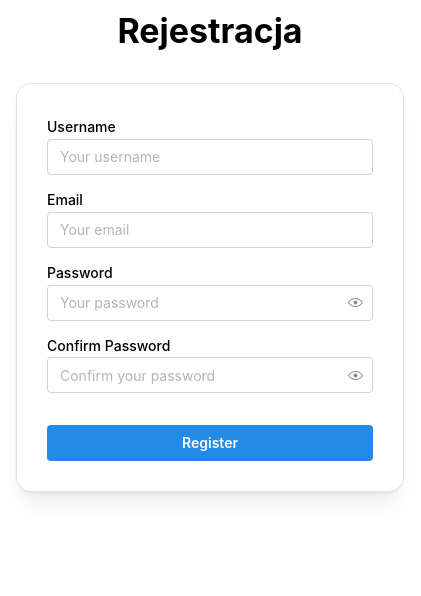
Test: RegisterPage Component › Displays validation messages when clicking submit button with wrong data
Step 1. Click the button "Register" → (210, 443), box x1=47 y1=425 x2=373 y2=461
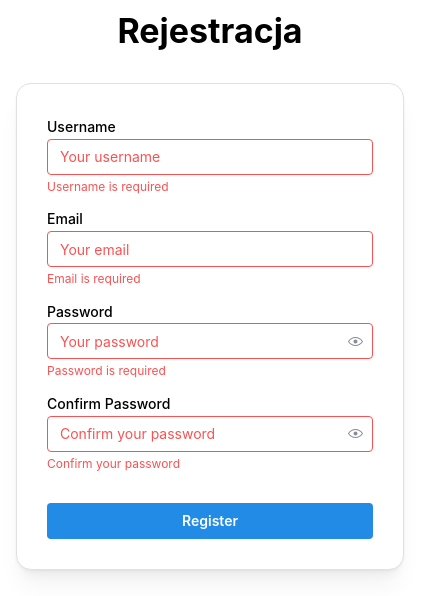
Now the text "Username is required" is shown, box x1=47 y1=179 x2=169 y2=194
Now the text "Email is required" is shown, box x1=47 y1=271 x2=141 y2=286
Now the text "Password is required" is shown, box x1=47 y1=363 x2=166 y2=378
